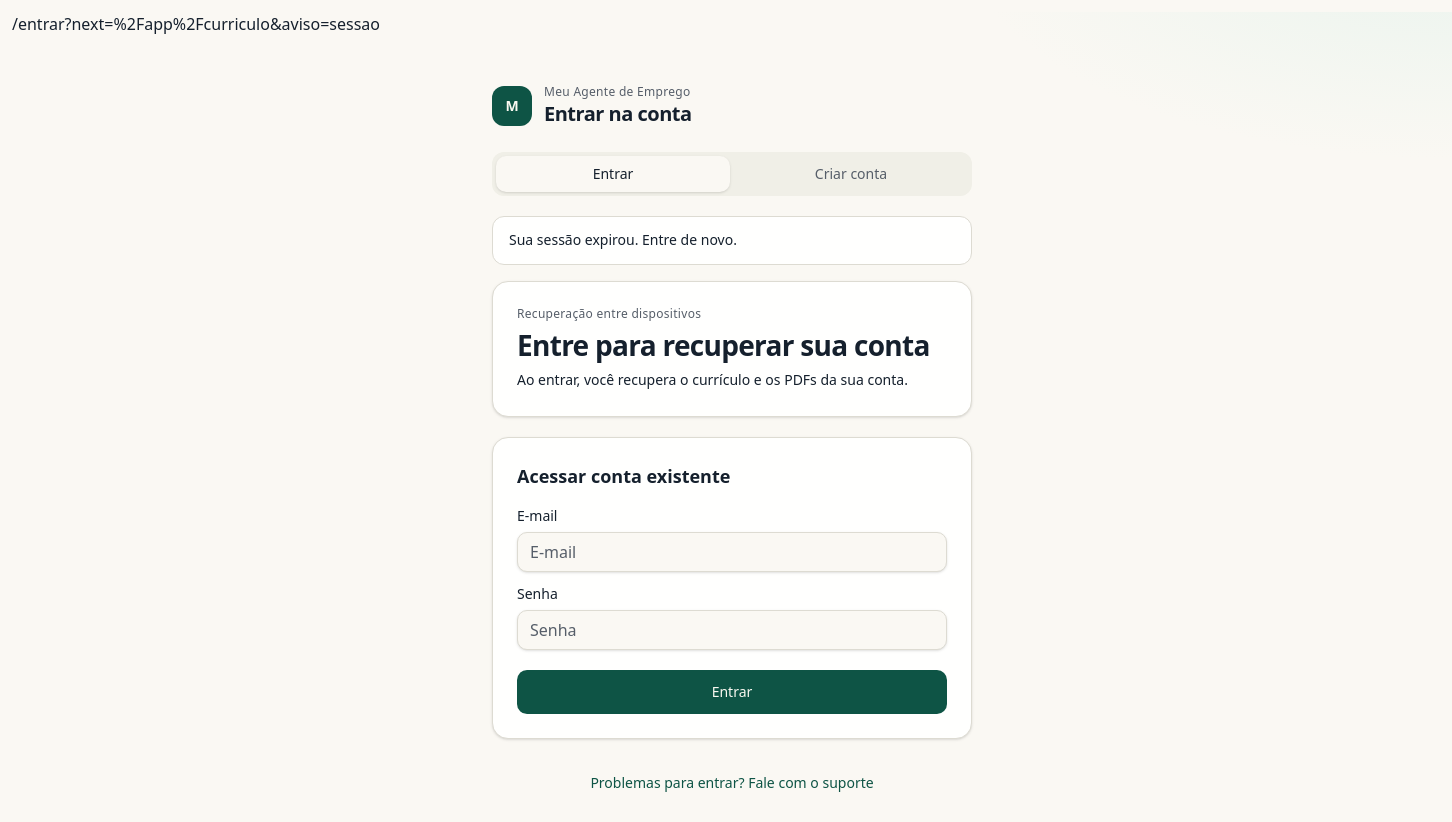
Test: boot da sessão › refresh 401 em /app/curriculo vai para /entrar?next e volta depois do login
The width and height of the screenshot is (1452, 822).
Expected: the message with test id "session-expired-notice" reads "Sua sessão expirou. Entre de novo.", [509,230,737,249]
Expected: the text with test id "session-location" shows "/entrar", [12,13,380,35]
In the field with test id "login-email": [732, 552] box [517,532,947,572], type "ada@example.com"
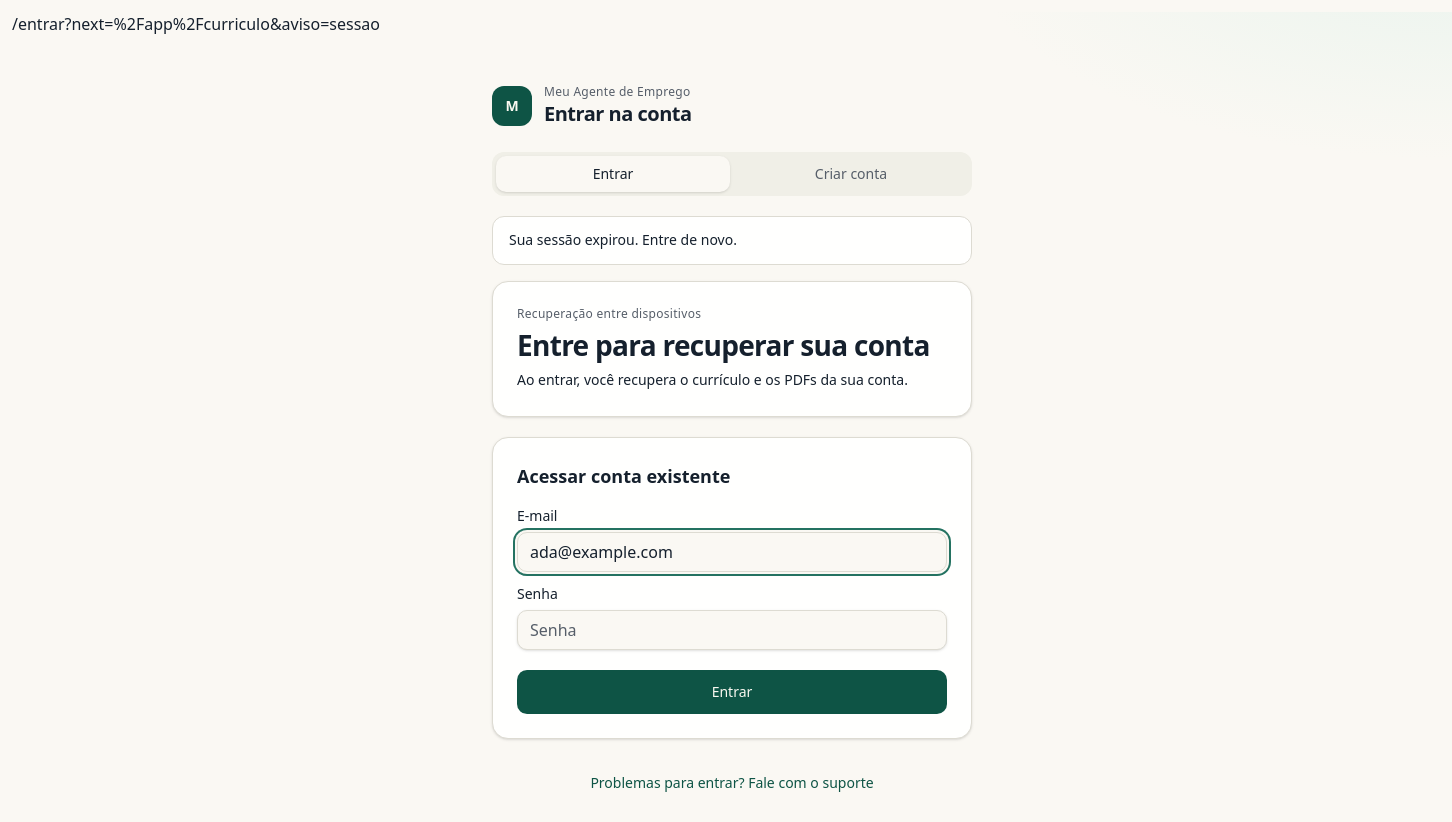
In the password field with test id "login-password": [732, 630] box [517,610,947,650], type "senha-segura"
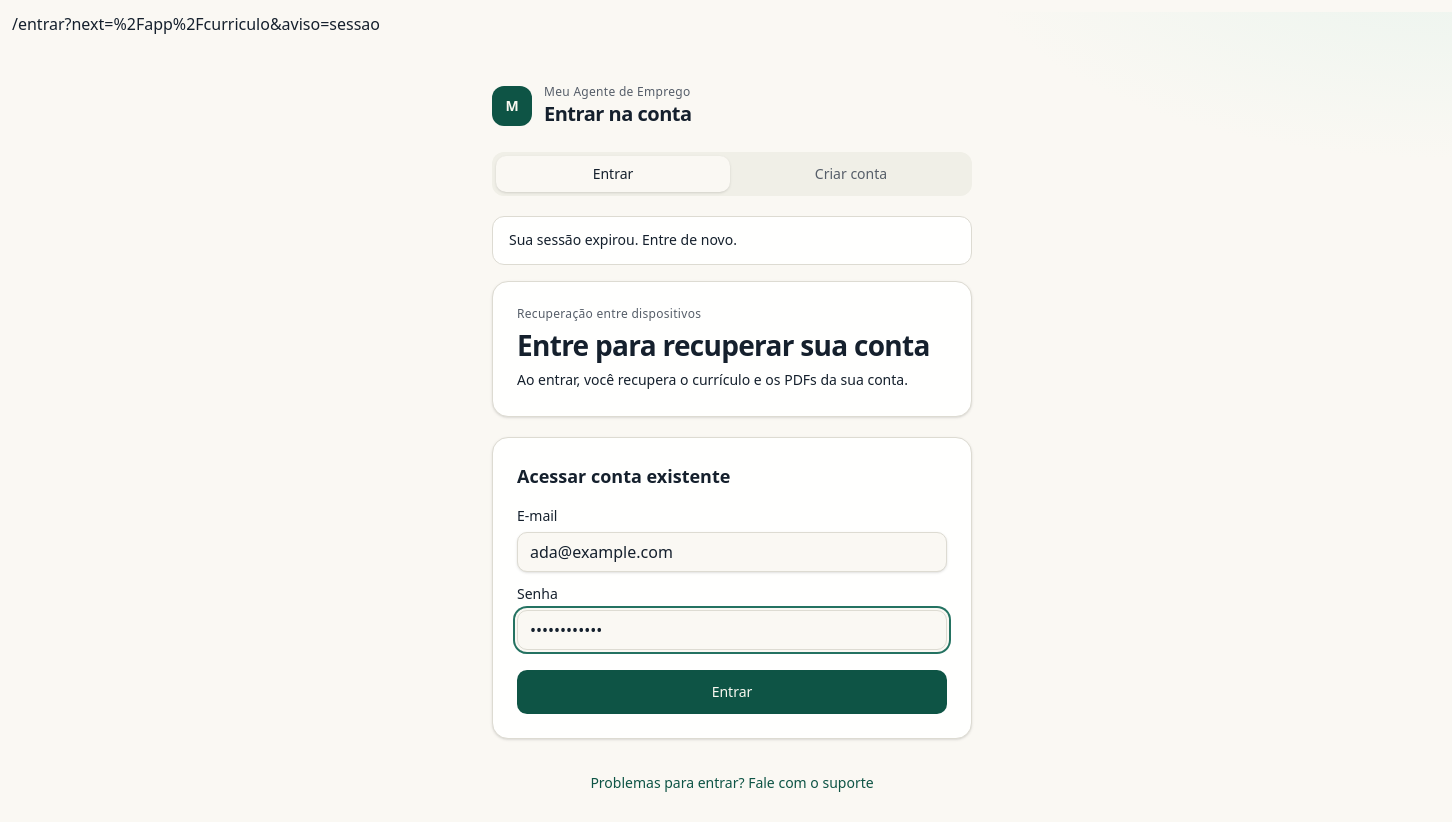
Click the button with test id "login-submit": [732, 692] box [517,670,947,714]
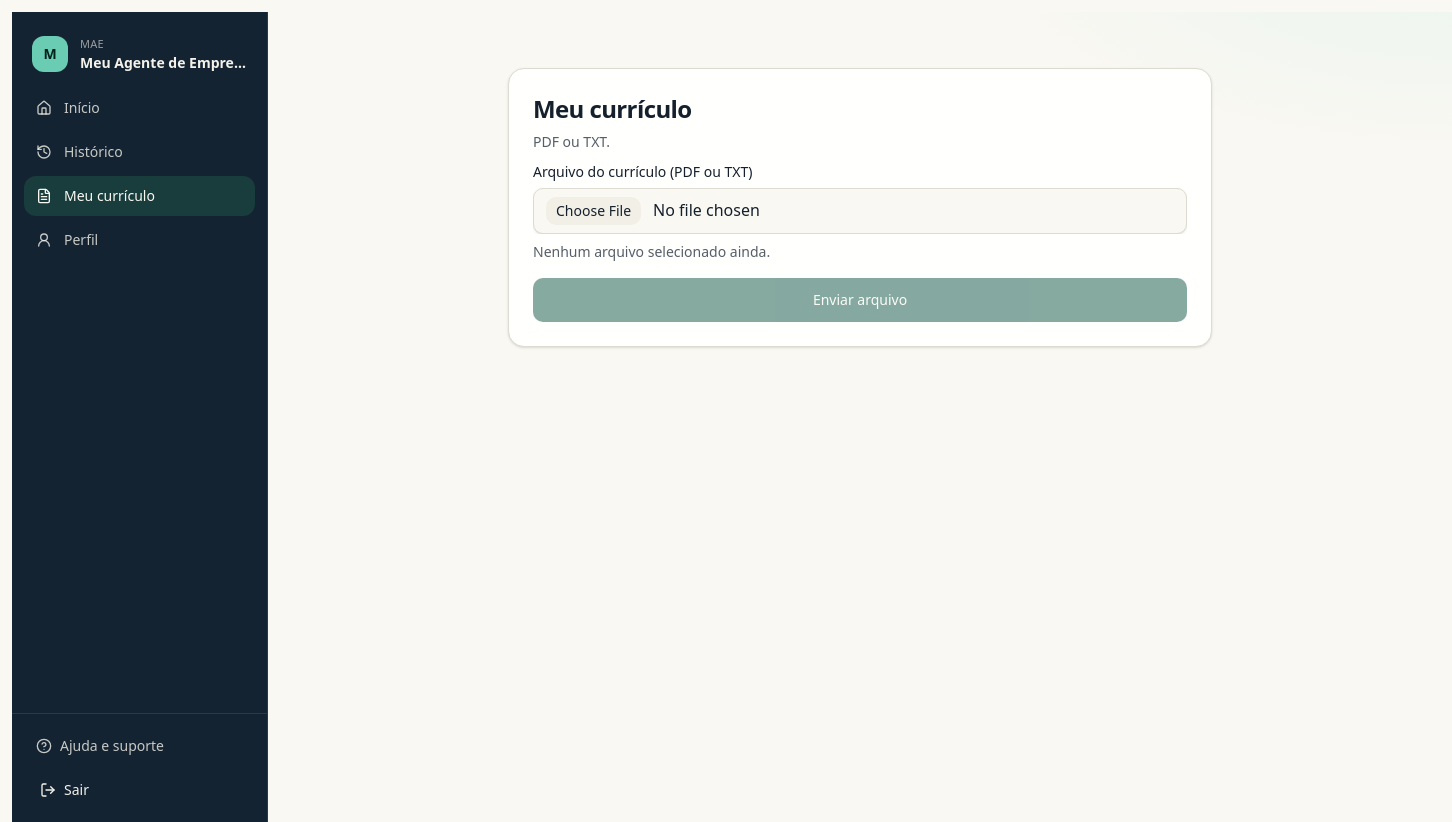
Expected: the element with test id "curriculo-page" is shown, [508,68,1212,347]
